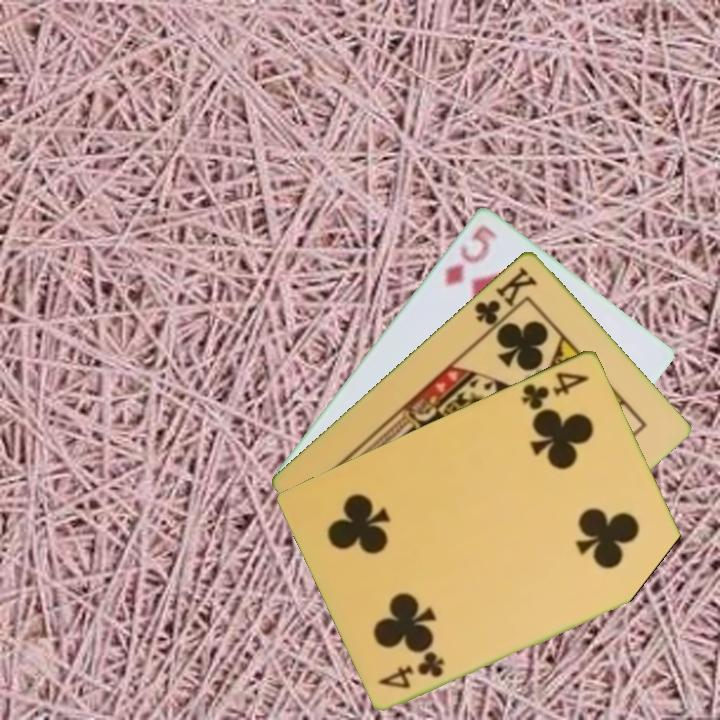4c: (518, 367, 592, 413), (375, 650, 447, 692)
5d: (441, 220, 501, 289)
Kc: (471, 262, 541, 336)
